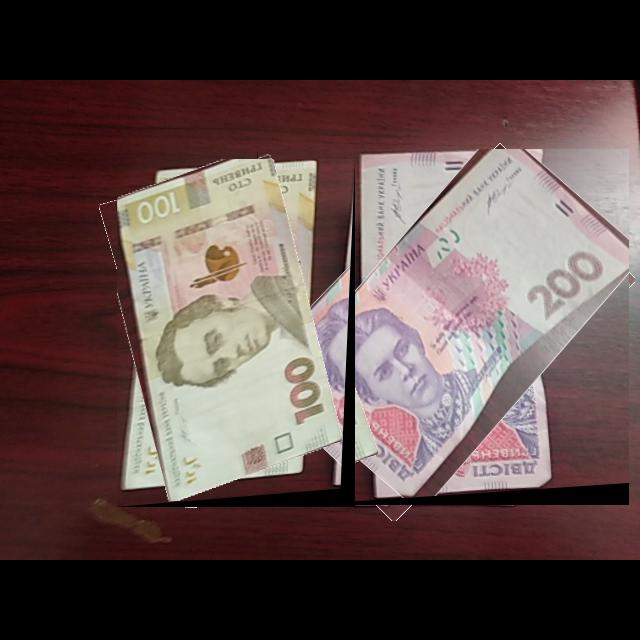100uah: (117, 159, 347, 504)
200uah: (271, 149, 630, 500)
